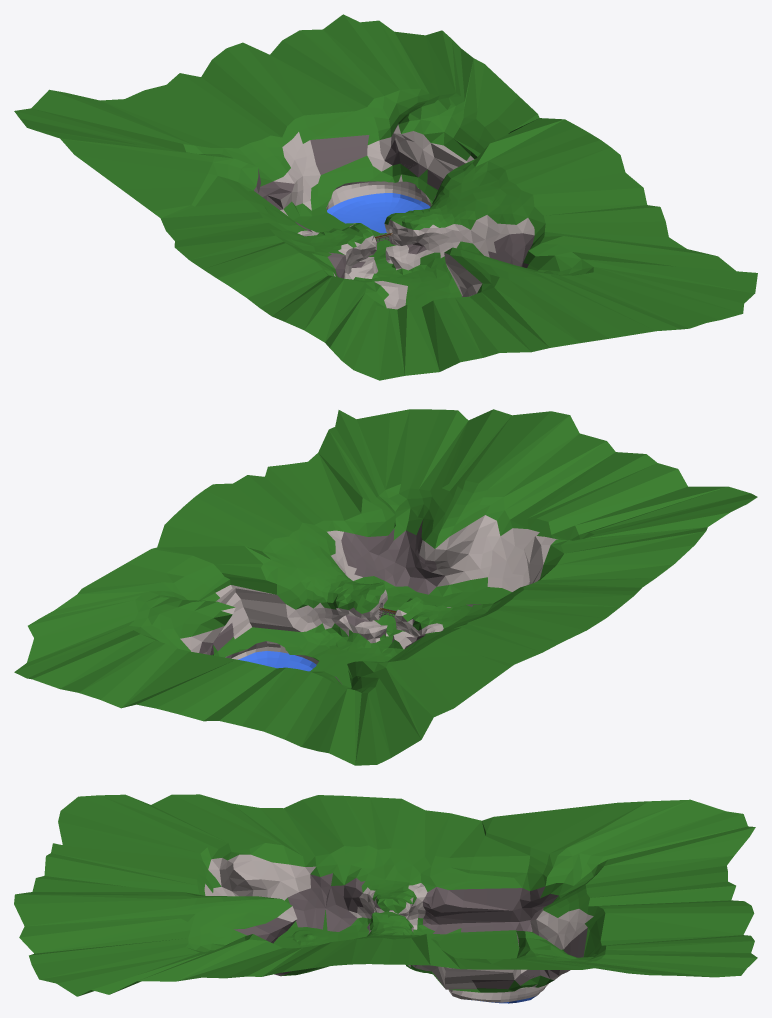
Rendered from groundMap.glb.
The picture shows the model from 3 angles, top to bottom: view 1: azimuth 30°, elevation 25°; view 2: azimuth 150°, elevation 25°; view 3: azimuth 270°, elevation 25°; orthographic projection. The views are drawn at different scales.
Parts seen in each view (by area): view 1: playground; view 2: playground; view 3: playground.
Part boxes in pixels (left/top/right/bottom): playground: left=14, top=14, right=757, bottom=380; playground: left=14, top=409, right=757, bottom=765; playground: left=14, top=794, right=757, bottom=1003.
Size of the model in its own units: 141 by 31.77 by 234.
Materials: 1 (1 with a texture image).
